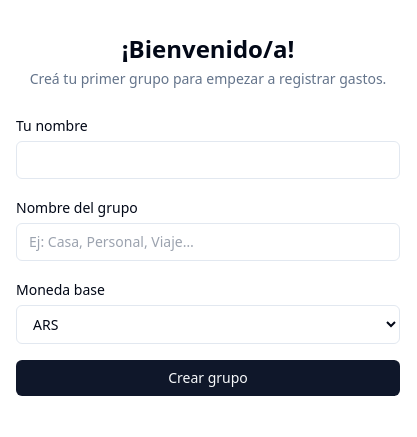
OnboardingPage › valida nombre y grupo obligatorios al enviar vacío
What coordinates should you click on to do the following:
click the button "Crear grupo"
I would click on:
 (208, 378)
Its box is [16,360,400,396].
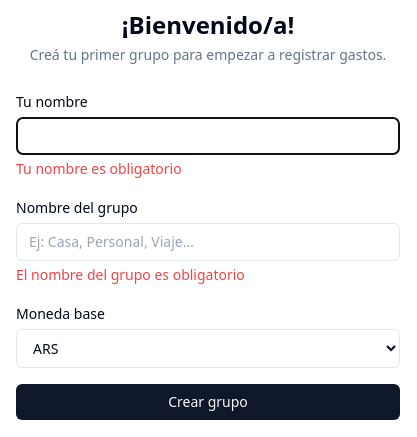
Check: the text "Tu nombre es obligatorio" is shown, box [16,158,182,178]
Check: the text "El nombre del grupo es obligatorio" is shown, box [16,264,245,284]
